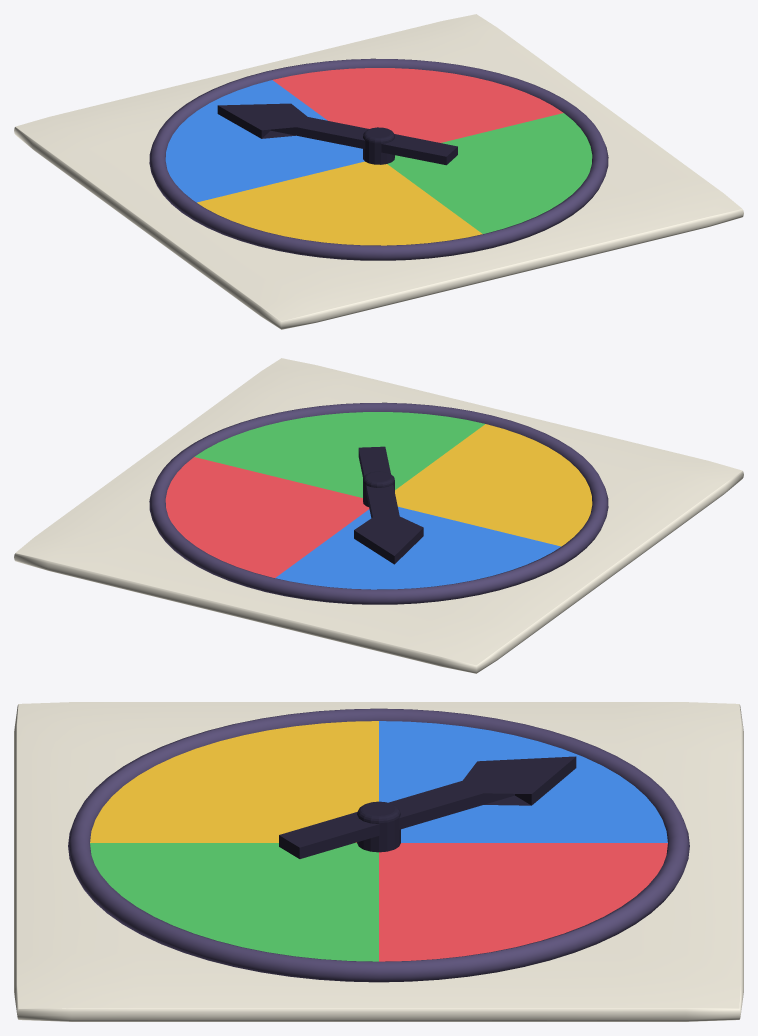
Rendered from DiceDashSpinner.obj.
3 renders of one model, top to bottom at view 1: azimuth 30°, elevation 25°; view 2: azimuth 150°, elevation 25°; view 3: azimuth 270°, elevation 25°, orthographic. The views are drawn at different scales.
Visible parts, largest first — view 1: Card, SegC, Rim, SegD, SegA, SegB, Arrow; view 2: Card, SegC, SegA, Rim, SegD, SegB, Arrow; view 3: Card, SegA, Rim, SegD, SegC, SegB, Arrow.
Boxes of the visible parts, box(x1,y1,x2,y2) form: Card: box(14, 14, 743, 329); SegC: box(197, 161, 482, 245); Rim: box(149, 58, 608, 260); SegD: box(387, 113, 592, 233); SegA: box(273, 68, 563, 142); SegB: box(165, 80, 364, 202); Arrow: box(217, 103, 457, 165); Card: box(14, 358, 743, 673); SegC: box(395, 424, 592, 546); SegA: box(165, 457, 369, 577); Rim: box(149, 402, 608, 604); SegD: box(194, 412, 484, 497); SegB: box(275, 506, 560, 589); Arrow: box(354, 446, 423, 564); Card: box(14, 702, 743, 1021); SegA: box(379, 843, 667, 961); Rim: box(68, 708, 689, 982); SegD: box(90, 843, 378, 961); SegC: box(90, 721, 378, 842); SegB: box(379, 721, 667, 842); Arrow: box(279, 756, 576, 858).
Bounding box in the file's own units: 20 × 1.9 × 20.
